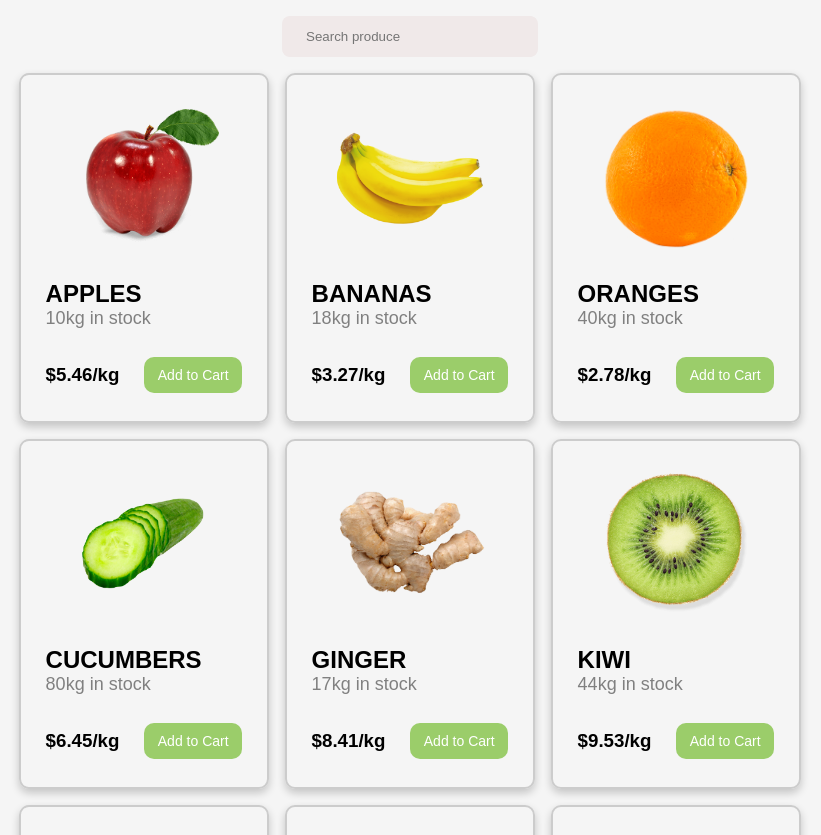
Test: StorePage › On click the text value of add to cart btn should be In Cart
Click the button "Add to Cart" in the row of "5.46": click(193, 375) x1=144 y1=357 x2=242 y2=393
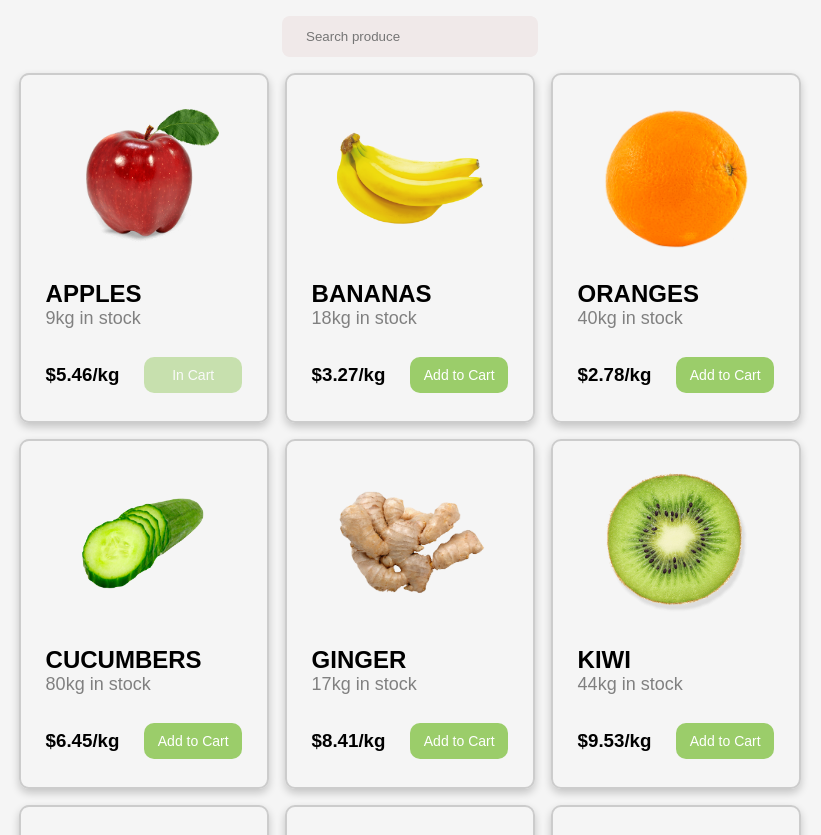
Now the button named "Add to Cart" reads "In Cart", box x1=144 y1=357 x2=242 y2=393
